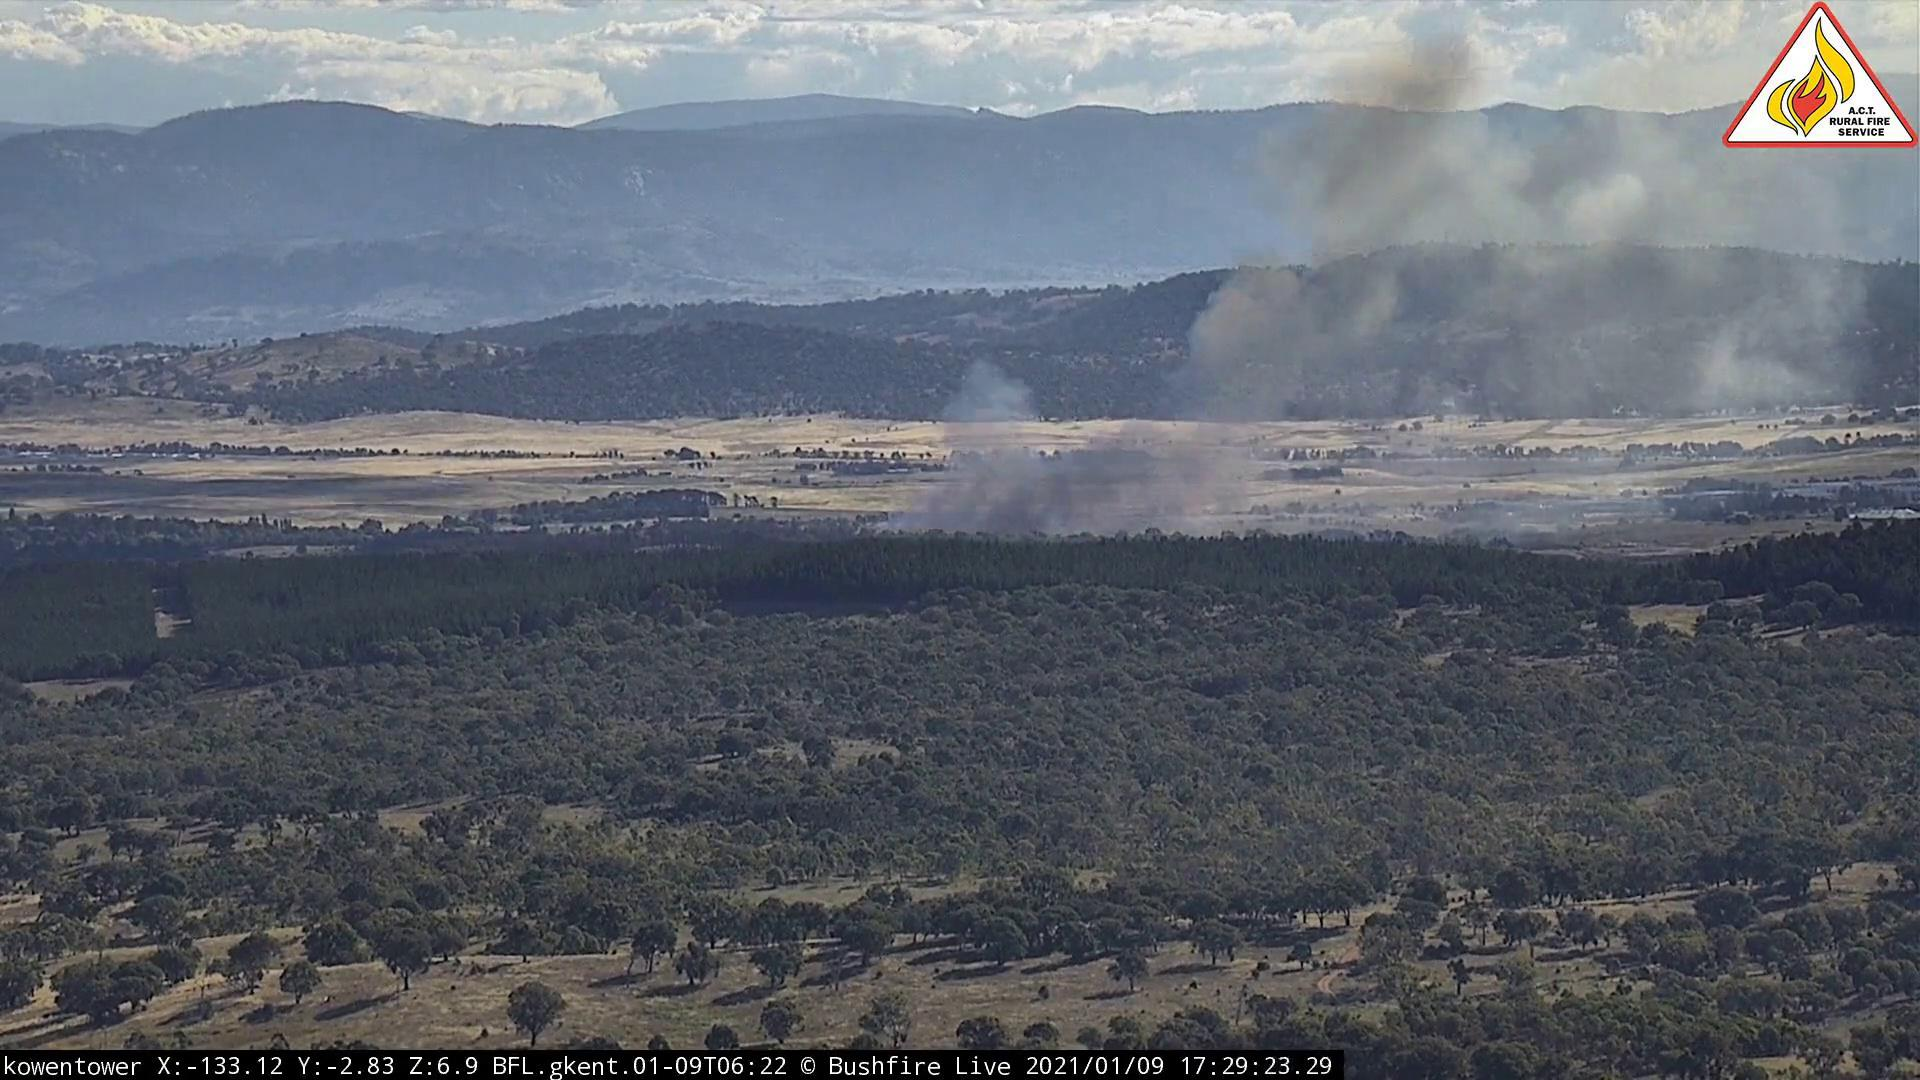instance_salient_object: (881, 16, 1717, 546)
